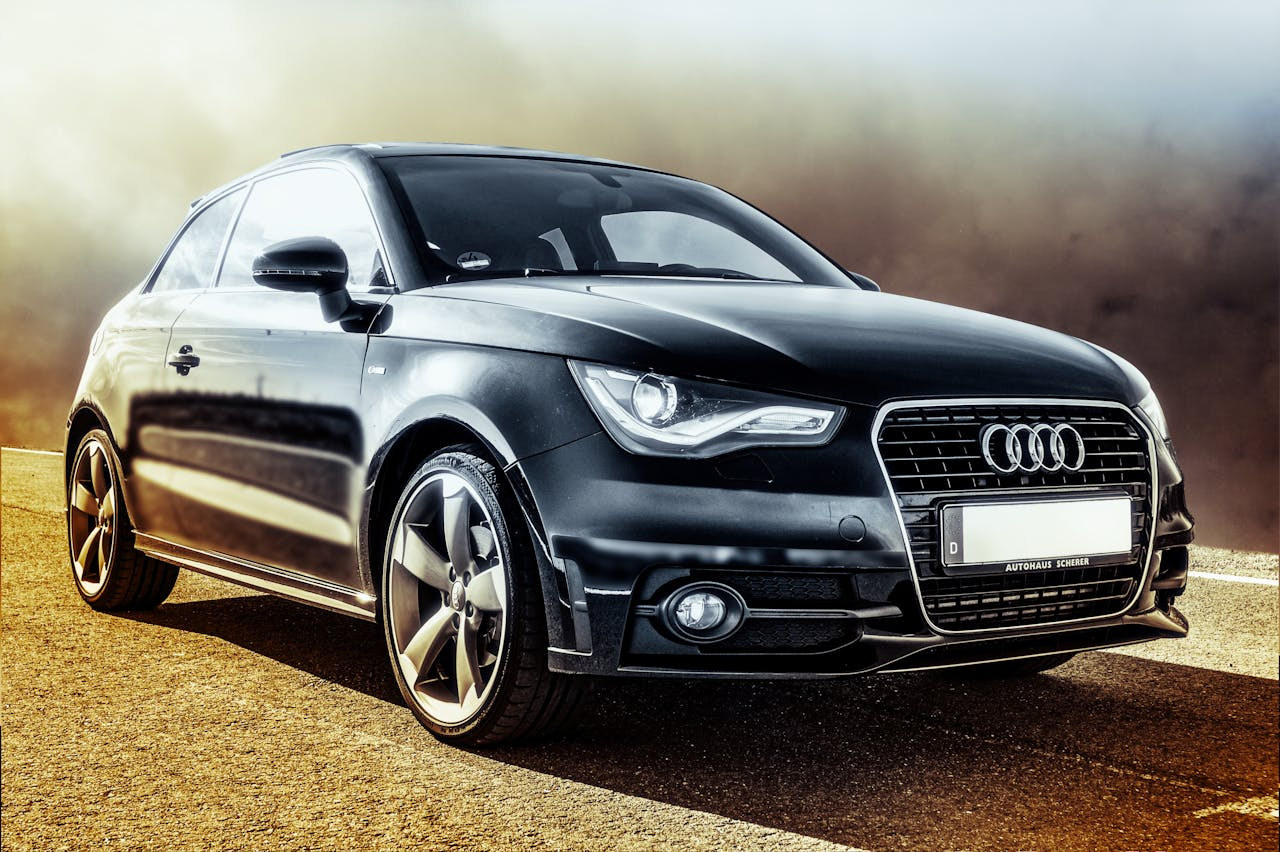car: (39, 106, 1211, 760)
